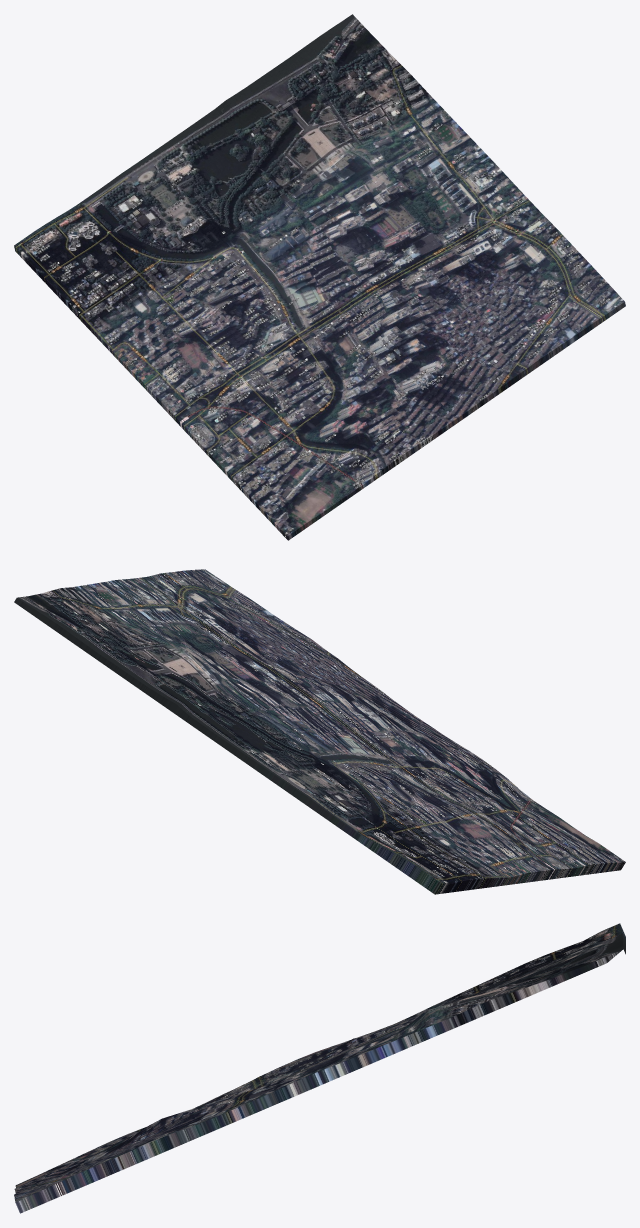
The picture shows the model from 3 angles, top to bottom: view 1: azimuth 30°, elevation 25°; view 2: azimuth 150°, elevation 25°; view 3: azimuth 270°, elevation 25°; orthographic projection. The views are drawn at different scales.
Visible parts, largest first — view 1: 1_5_9; view 2: 1_5_9; view 3: 1_5_9.
Boxes of the visible parts, box(x1,y1,x2,y2) form: 1_5_9: box(14, 14, 625, 540); 1_5_9: box(14, 569, 625, 894); 1_5_9: box(14, 923, 625, 1213).
Bounding box in the file's own units: 1233 × 894 × 1130.
Materials: 1 (1 with a texture image).
